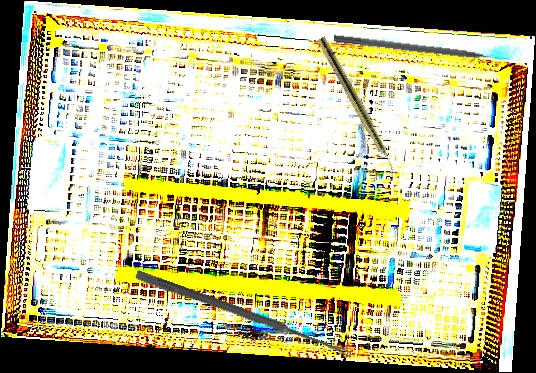Handpiece: (314, 35, 402, 179)
Pusher: (333, 34, 510, 66)
Surgical Spoon: (134, 269, 355, 360)
